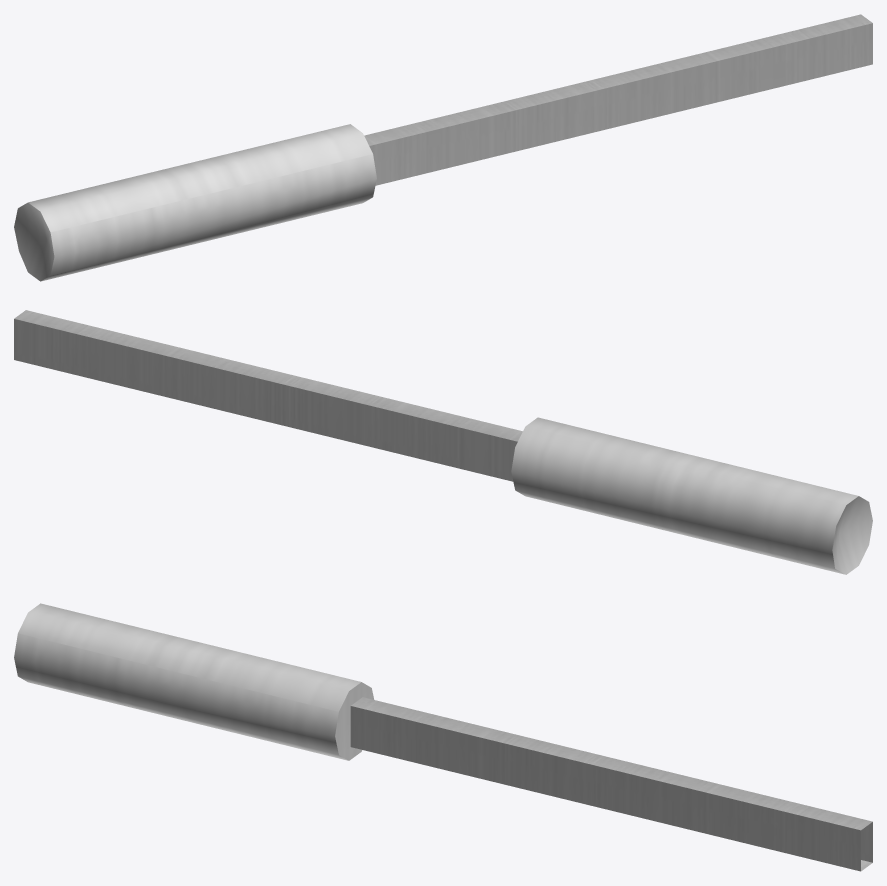
3 views of the same model, one above another, from view 1: azimuth 30°, elevation 25°; view 2: azimuth 150°, elevation 25°; view 3: azimuth 330°, elevation 25° (orthographic).
Bounding box in the file's own units: 0.7546 × 0.0605 × 0.0641.
